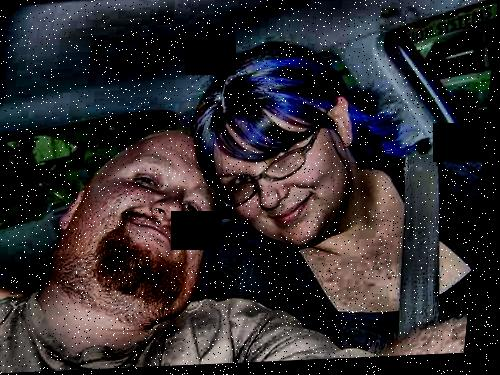seatbelt: (370, 142, 467, 334)
